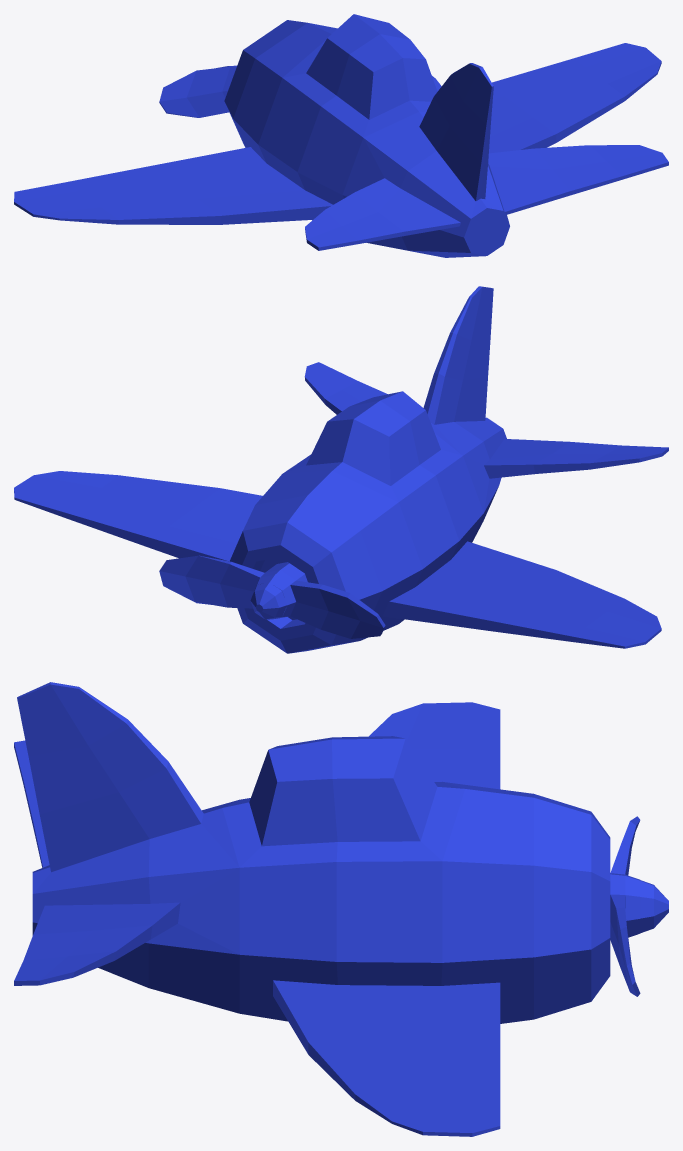
Rendered from Low_Poly_Airplane_Blender_2_8.glb.
3 renders of one model, top to bottom at view 1: azimuth 30°, elevation 25°; view 2: azimuth 150°, elevation 25°; view 3: azimuth 270°, elevation 25°, orthographic. The views are drawn at different scales.
Visible parts, largest first — view 1: unnamed (×6); view 2: unnamed (×7); view 3: unnamed (×6).
Boxes of the visible parts, box(x1,y1,x2,y2) form: unnamed (×6): box(14, 14, 668, 257); unnamed (×7): box(14, 286, 668, 653); unnamed (×6): box(14, 682, 668, 1136).
Bounding box in the file's own units: 7.06 × 2.63 × 4.54.
